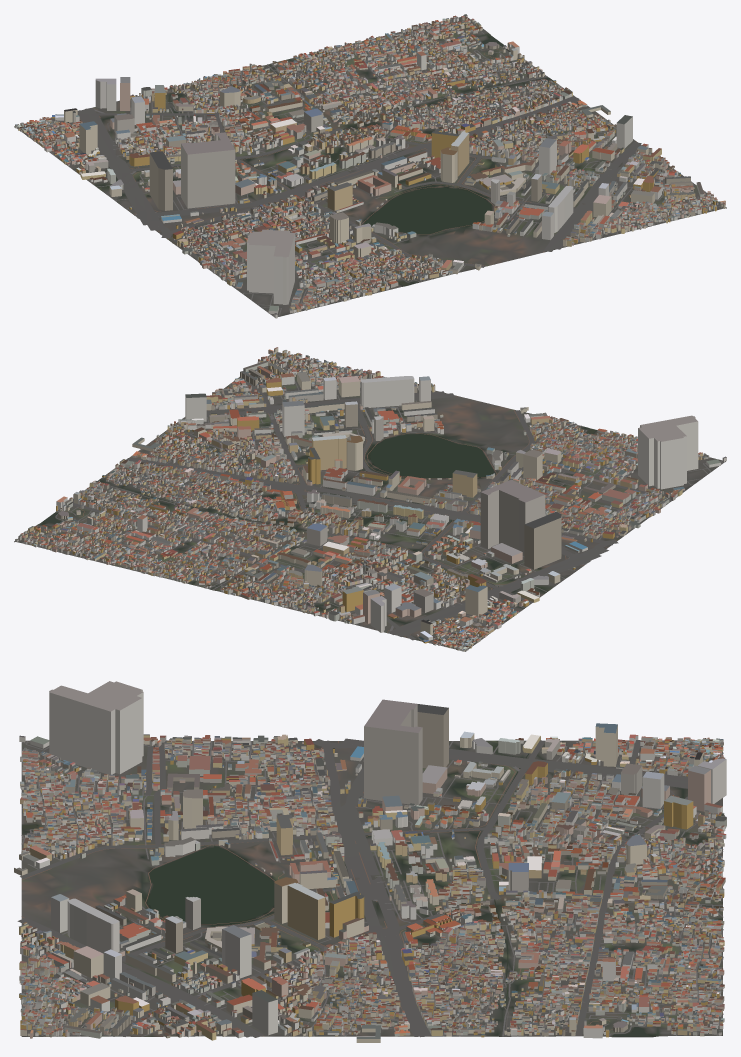
3 views of the same model, one above another, from view 1: azimuth 30°, elevation 25°; view 2: azimuth 150°, elevation 25°; view 3: azimuth 270°, elevation 25° (orthographic). The views are drawn at different scales.
Visible parts, largest first — view 1: buildings, ground, roads, water; view 2: buildings, ground, roads, water; view 3: buildings, ground, roads, water.
Part boxes in pixels (x1,y1,x2,y2): buildings: (14,14,725,318); ground: (14,17,726,317); roads: (25,18,722,316); water: (106,36,546,285); buildings: (15,347,726,651); ground: (14,352,725,651); roads: (18,352,723,648); water: (41,429,595,608); buildings: (14,681,726,1042); ground: (21,740,722,1037); roads: (17,738,723,1037); water: (22,753,722,1036).
Bounding box in the file's own units: 1440 × 163 × 1425.
